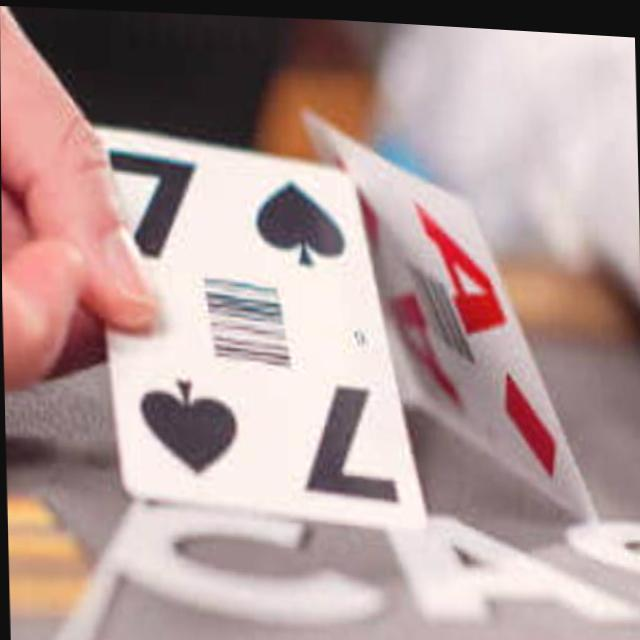Card-7: (94, 126, 424, 519)
Card-A: (299, 104, 599, 510)
